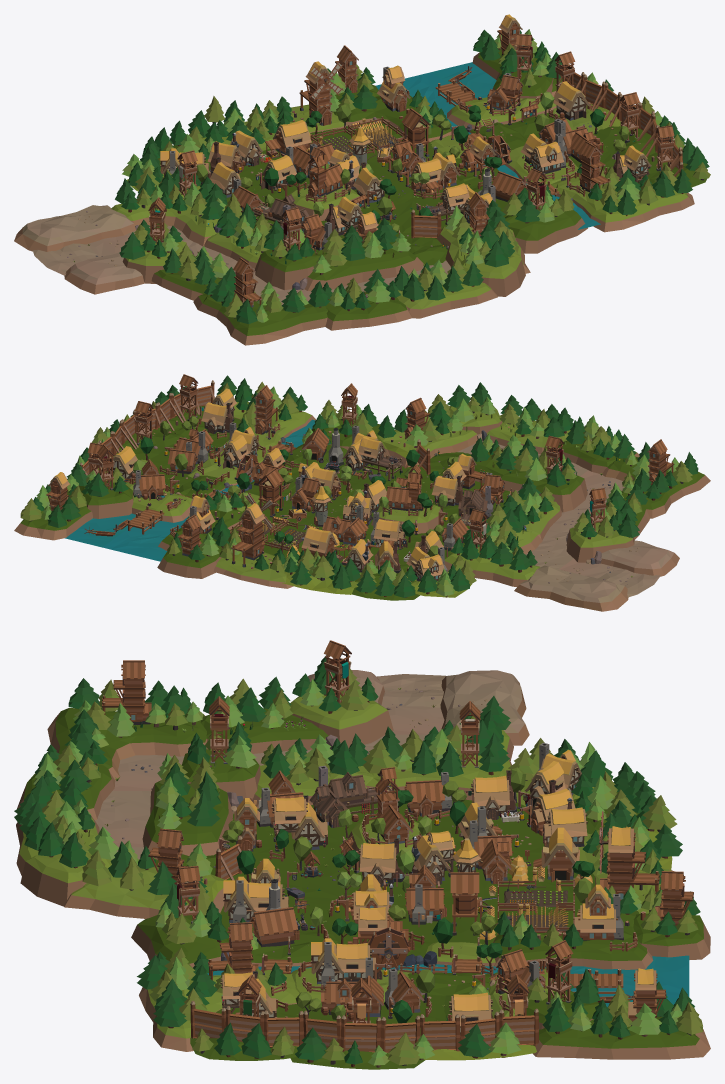
File: Village.glb
3 views of the same model, one above another, from view 1: azimuth 30°, elevation 25°; view 2: azimuth 150°, elevation 25°; view 3: azimuth 270°, elevation 25° (orthographic). The views are drawn at different scales.
Visible parts, largest first — view 1: TB_Env_Mound_Corner_B (×2), TB_Env_Mound_Big_C, TB_Env_Mound_Corner_A, TB_Env_Mound_Med_A (3), TB_Env_Mound_Med_C, TB_Env_Mound_Med_A (4), TB_Env_Mound_Med_A, TB_Bd_House (×3), TB_Env_Mound_Med_B (1), TB_Env_Mound_Small_A, TB_Bd_House_Open (×2), TB_Env_Mound_Small_B (+39 smaller); view 2: TB_Env_Mound_Big_C, TB_Env_Mound_Corner_B (×2), TB_Bd_House (×4), TB_Bd_WoodHouse (×4), TB_Env_Mound_Med_C, TB_Env_Tile_Water_A (3), TB_Env_Mound_Corner_A, TB_Env_Mound_Big_B, TB_Bd_House_Open (×3), TB_Env_Mound_Med_B (2), TB_Env_Mound_Small_B (3), TB_Env_Mound_Med_A (2) (+52 smaller); view 3: TB_Bd_WoodHouse (×6), TB_Bd_House (×5), TB_Env_Mound_Med_A (2), TB_Env_Mound_Corner_B (×2), TB_Env_Mound_Corner_A, TB_Env_Mound_Big_C, TB_Bd_House_Open (×4), TB_Env_Mound_Big_B, TB_Bd_Wood_Tall (×3), TB_Env_Mound_Corner_A (1), TB_Env_Tile_Grass_A (6), TB_Env_Mound_Small_B (3) (+68 smaller).
Part boxes in pixels (bbox=[...]): TB_Env_Mound_Corner_B (×2): bbox=[111, 174, 694, 246]; TB_Env_Mound_Big_C: bbox=[14, 205, 135, 251]; TB_Env_Mound_Corner_A: bbox=[193, 292, 328, 345]; TB_Env_Mound_Med_A (3): bbox=[305, 242, 423, 291]; TB_Env_Mound_Med_C: bbox=[64, 252, 144, 294]; TB_Env_Mound_Med_A (4): bbox=[505, 207, 587, 253]; TB_Env_Mound_Med_A: bbox=[325, 292, 412, 330]; TB_Bd_House (×3): bbox=[210, 141, 564, 203]; TB_Env_Mound_Med_B (1): bbox=[397, 279, 497, 318]; TB_Env_Mound_Small_A: bbox=[254, 244, 320, 290]; TB_Bd_House_Open (×2): bbox=[262, 81, 590, 188]; TB_Env_Mound_Small_B: bbox=[460, 255, 525, 296]; TB_Env_Mound_Big_C: bbox=[514, 565, 628, 611]; TB_Env_Mound_Corner_B (×2): bbox=[224, 399, 542, 586]; TB_Bd_House (×4): bbox=[201, 402, 463, 581]; TB_Bd_WoodHouse (×4): bbox=[138, 428, 412, 510]; TB_Env_Mound_Med_C: bbox=[600, 540, 679, 576]; TB_Env_Tile_Water_A (3): bbox=[102, 520, 183, 561]; TB_Env_Mound_Corner_A: bbox=[602, 456, 710, 518]; TB_Env_Mound_Big_B: bbox=[377, 425, 477, 467]; TB_Bd_House_Open (×3): bbox=[105, 435, 402, 546]; TB_Env_Mound_Med_B (2): bbox=[213, 552, 293, 588]; TB_Env_Mound_Small_B (3): bbox=[566, 523, 634, 562]; TB_Env_Mound_Med_A (2): bbox=[14, 491, 92, 540]; TB_Bd_WoodHouse (×6): bbox=[249, 780, 511, 1012]; TB_Bd_House (×5): bbox=[291, 775, 587, 883]; TB_Env_Mound_Med_A (2): bbox=[533, 1016, 710, 1059]; TB_Env_Mound_Corner_B (×2): bbox=[139, 730, 513, 1051]; TB_Env_Mound_Corner_A: bbox=[47, 707, 206, 780]; TB_Env_Mound_Big_C: bbox=[440, 670, 529, 745]; TB_Bd_House_Open (×4): bbox=[246, 761, 570, 1035]; TB_Env_Mound_Big_B: bbox=[64, 866, 225, 918]; TB_Bd_Wood_Tall (×3): bbox=[102, 680, 659, 985]; TB_Env_Mound_Corner_A (1): bbox=[493, 910, 653, 969]; TB_Env_Tile_Grass_A (6): bbox=[225, 847, 341, 903]; TB_Env_Mound_Small_B (3): bbox=[290, 694, 393, 748].
Bounding box in the file's own units: 142 × 17.37 × 105.
2 materials, 2 textured.
